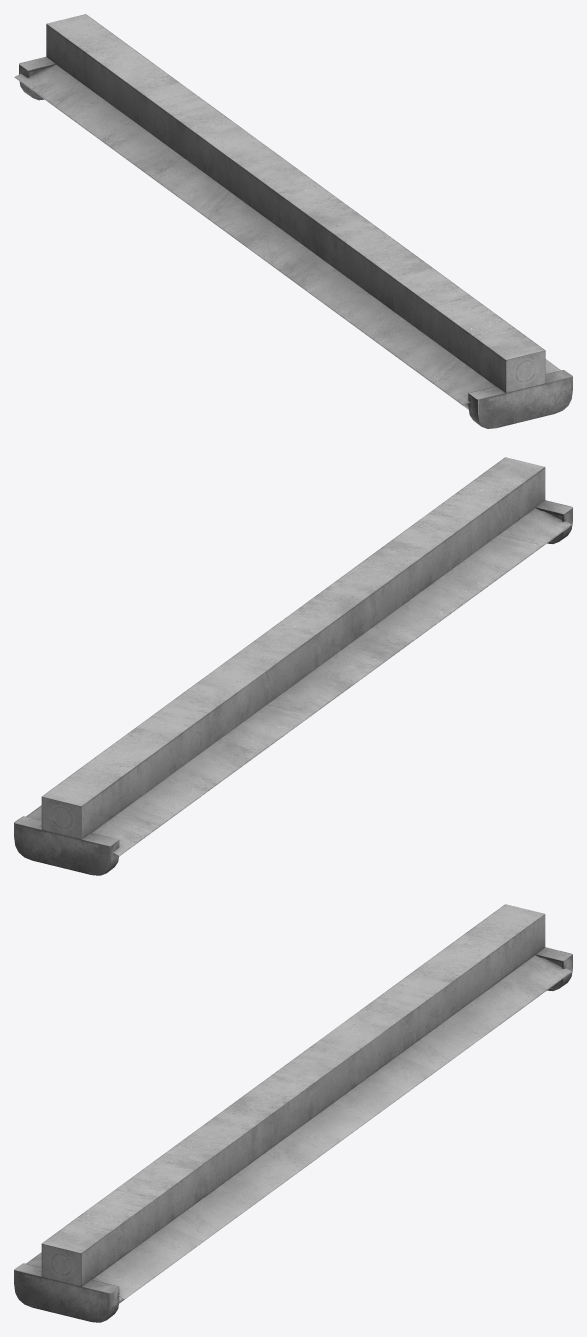
File: SM_Lamp_Fluoroscent_01.fbx
3 views of the same model, one above another, from view 1: azimuth 30°, elevation 25°; view 2: azimuth 150°, elevation 25°; view 3: azimuth 330°, elevation 25° (orthographic).
Visible parts, largest first — view 1: SM_Lamp_Fluoroscent_01_LOD0; view 2: SM_Lamp_Fluoroscent_01_LOD0; view 3: SM_Lamp_Fluoroscent_01_LOD0.
Part boxes in pixels (x1,y1,x2,y2): SM_Lamp_Fluoroscent_01_LOD0: [14, 14, 572, 428]; SM_Lamp_Fluoroscent_01_LOD0: [14, 457, 572, 875]; SM_Lamp_Fluoroscent_01_LOD0: [14, 904, 572, 1322].
Bounding box in the file's own units: 13.82 × 100 × 8.
1 material, 1 textured.
